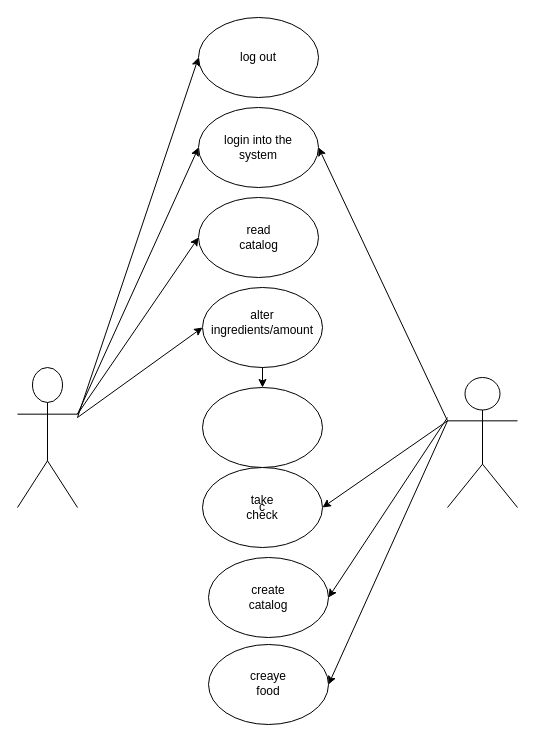
This 535x742 diagram has some shape labels left out. Each missing label, with the box of its shape:
Admin: (446, 376, 518, 508)
send check: (202, 386, 322, 468)
User: (16, 366, 78, 508)
